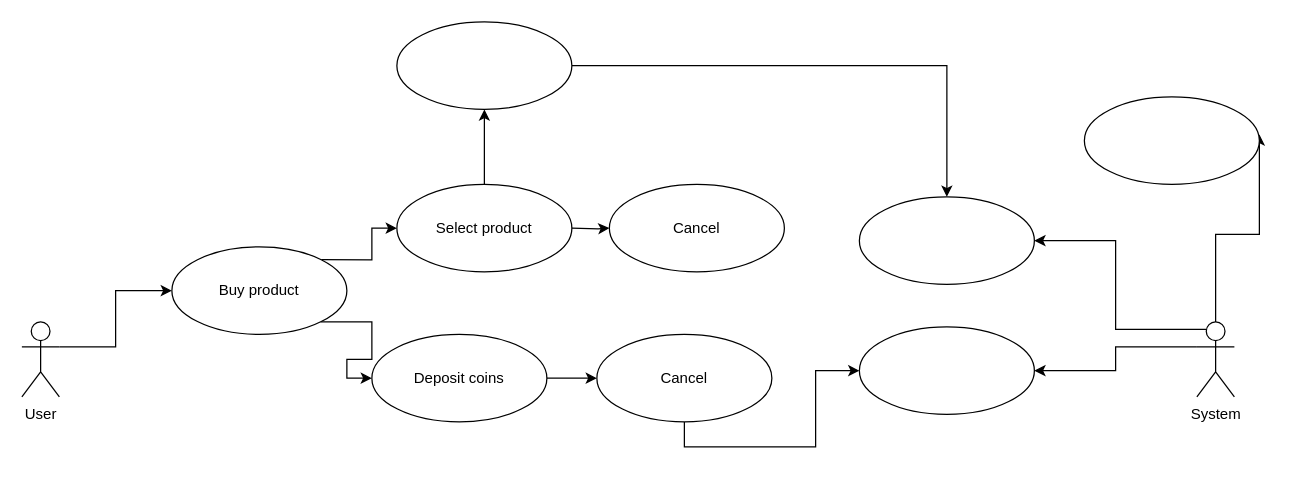
Some shapes in this 1291 by 479 pixel diagram are drawn without their labels. The shapes that lost their labels are listed below. From the top down, each one's centre as x and y in pixels, then its label:
At point 484,65: "Confirm".
At point 1171,140: "Issues products".
At point 946,240: "Counting coins".
At point 946,370: "Return money".
